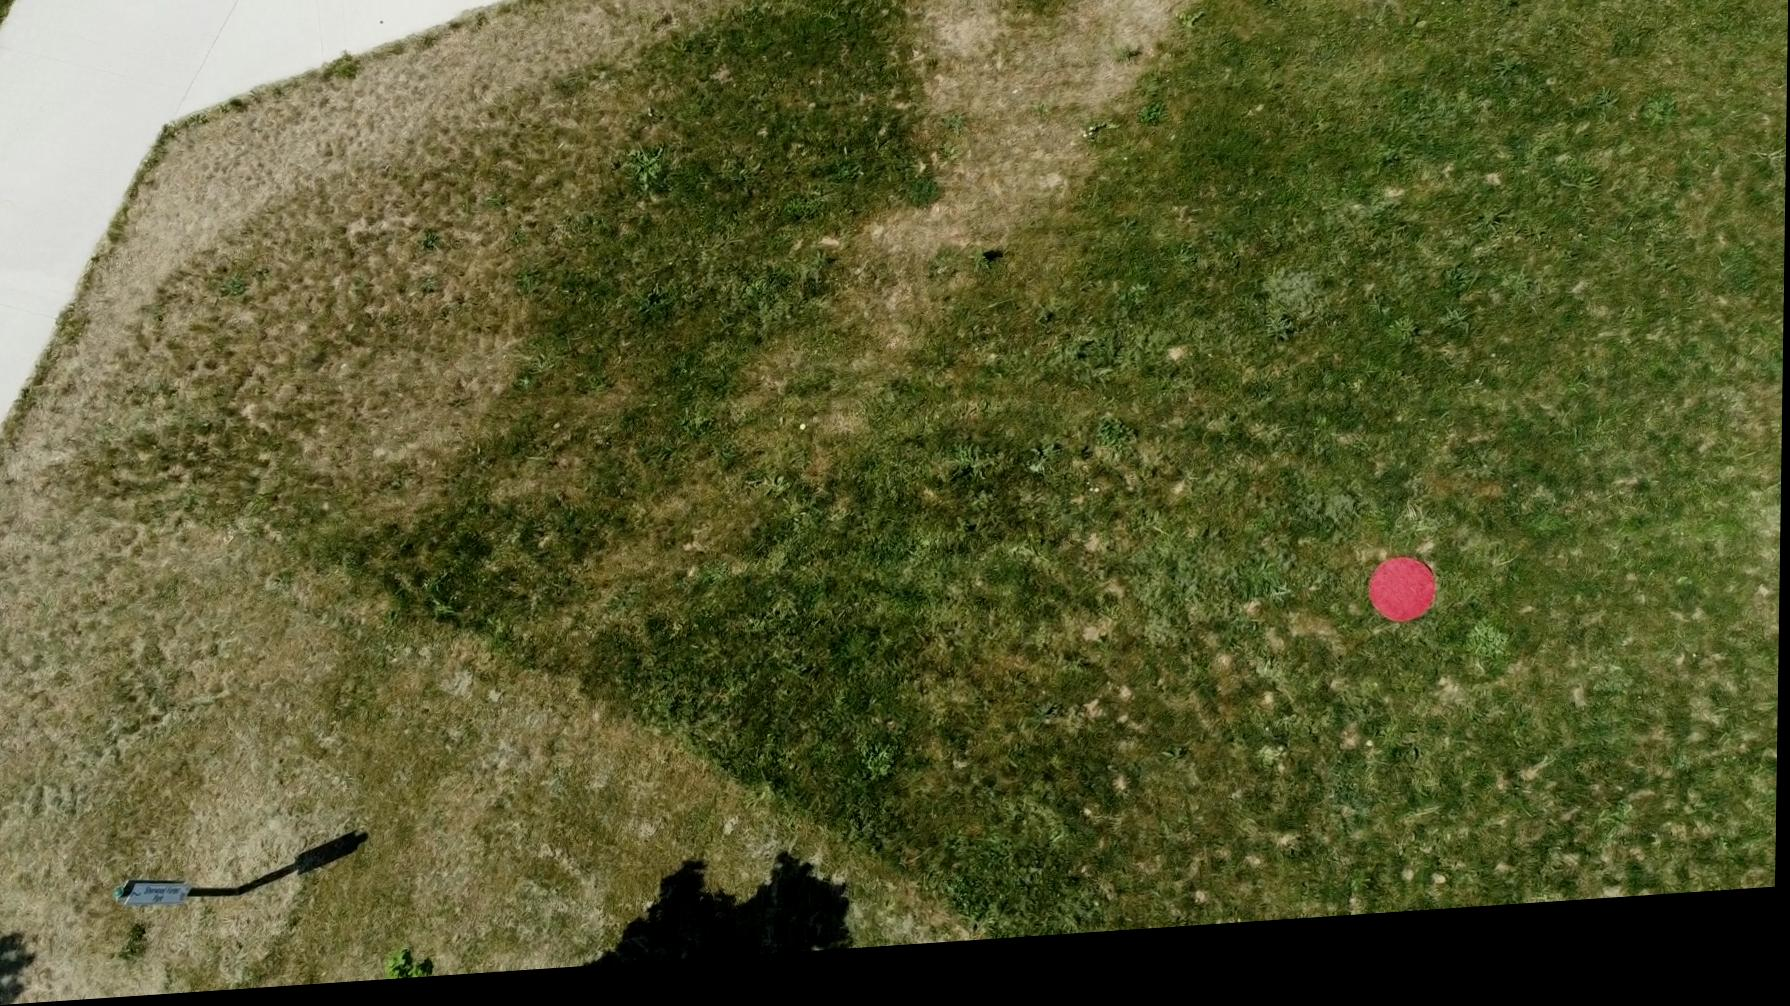Red: (1366, 572, 1443, 647)
